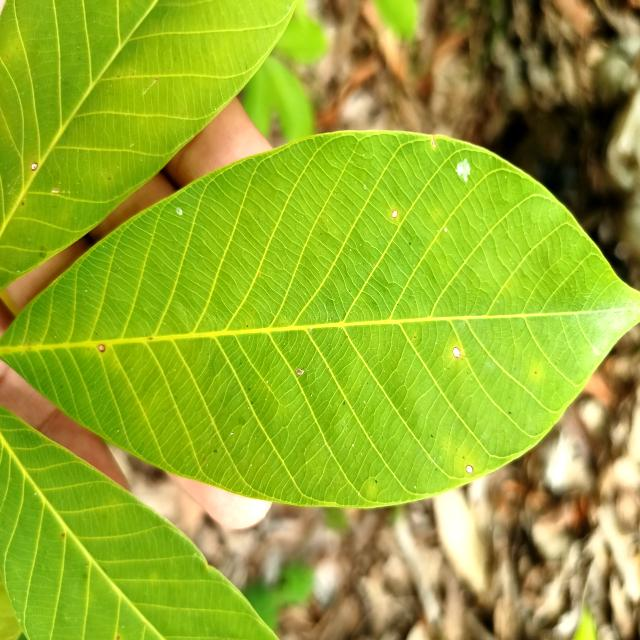Colletotrichum: (452, 347, 460, 358), (466, 465, 473, 473), (99, 344, 105, 353), (392, 210, 398, 218), (32, 163, 38, 171)
